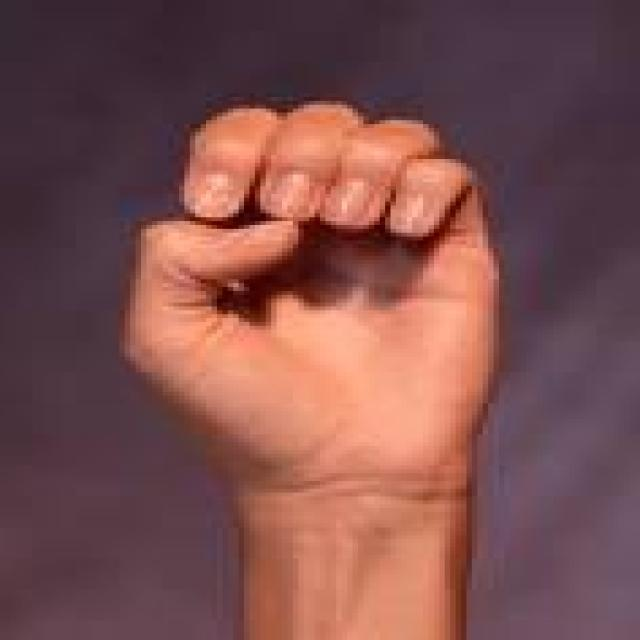E: (106, 93, 518, 497)
